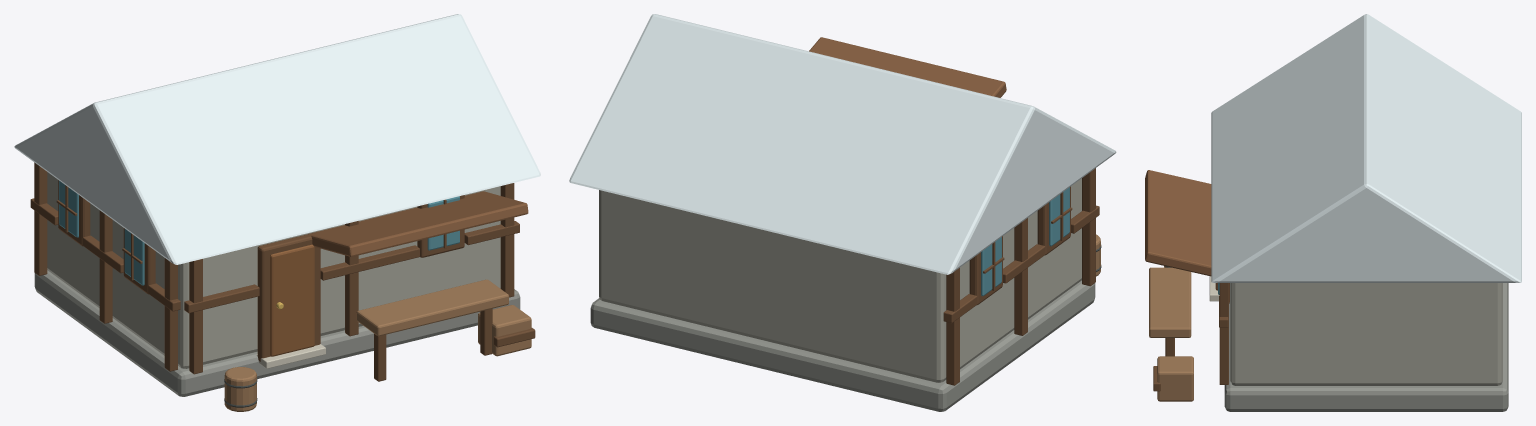
Rendered from snowy-artisan-0.glb.
3 views of the same model, side by side, from view 1: azimuth 30°, elevation 25°; view 2: azimuth 150°, elevation 25°; view 3: azimuth 270°, elevation 25° (orthographic). The views are drawn at different scales.
Parts seen in each view (by area): view 1: Snow, Fieldstone, Dark beams, Foundation stone, Aged oak, Wood shingles, Door oak, Blue glass, Cut limestone; view 2: Snow, Fieldstone, Foundation stone, Dark beams, Wood shingles, Blue glass; view 3: Snow, Fieldstone, Foundation stone, Wood shingles, Aged oak, Dark beams.
Boxes of the visible parts, <box> form: Snow: <box>14,14,540,264</box>; Fieldstone: <box>47,172,500,368</box>; Dark beams: <box>30,162,535,381</box>; Foundation stone: <box>34,270,520,396</box>; Aged oak: <box>224,279,531,411</box>; Wood shingles: <box>310,191,528,256</box>; Door oak: <box>270,244,314,356</box>; Blue glass: <box>59,180,459,285</box>; Cut limestone: <box>256,344,325,368</box>; Snow: <box>569,14,1116,274</box>; Fieldstone: <box>599,178,1081,382</box>; Foundation stone: <box>590,280,1095,411</box>; Dark beams: <box>943,168,1099,385</box>; Wood shingles: <box>809,37,1006,97</box>; Blue glass: <box>981,187,1069,296</box>; Snow: <box>1211,14,1521,282</box>; Fieldstone: <box>1230,283,1502,385</box>; Foundation stone: <box>1224,283,1508,411</box>; Wood shingles: <box>1145,170,1211,276</box>; Aged oak: <box>1149,266,1193,401</box>; Dark beams: <box>1153,283,1229,391</box>.
Size of the model in its own units: 4.34 by 2.76 by 4.01.
